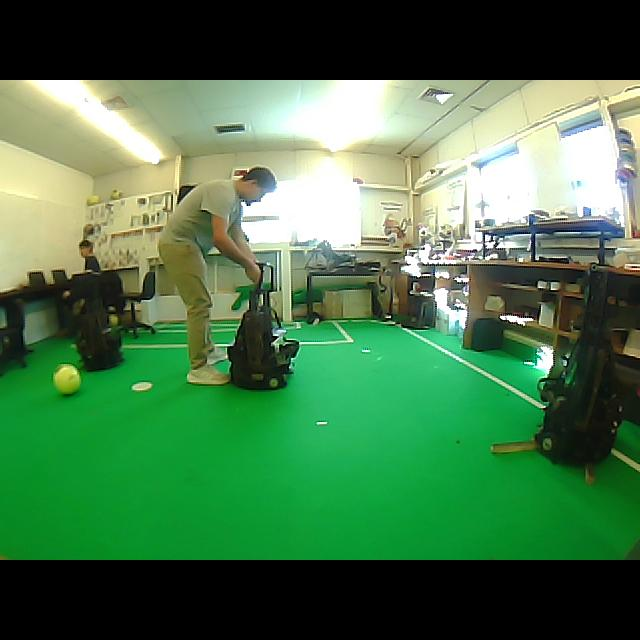ball: (53, 364, 81, 394), (86, 194, 100, 206), (110, 189, 122, 199), (109, 314, 119, 326)
goal: (280, 244, 291, 322)
robot: (535, 269, 622, 463), (228, 276, 298, 389), (78, 291, 124, 371)
